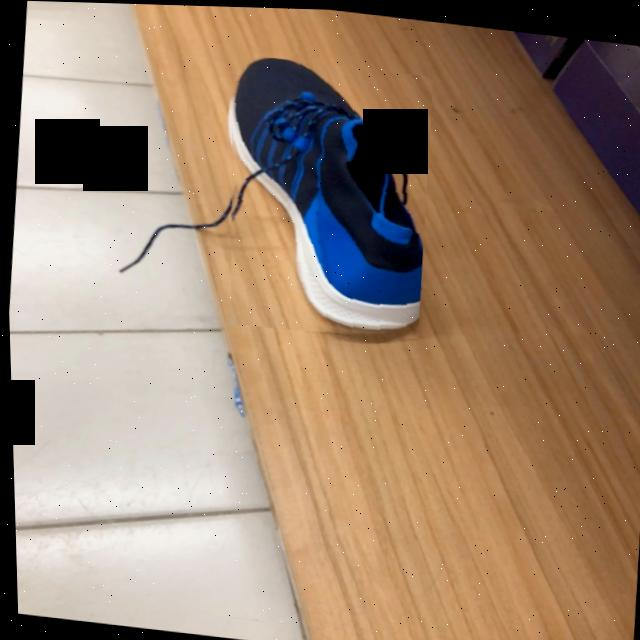shoe: (231, 56, 421, 334)
